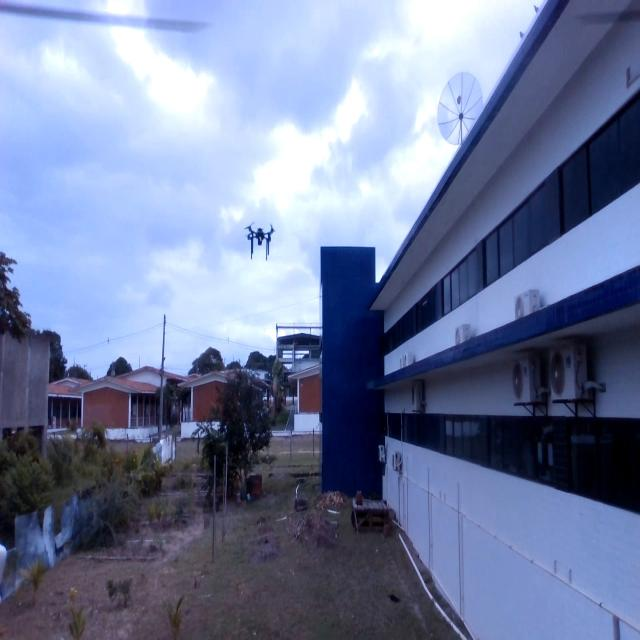-uav-: (242, 212, 278, 271)
